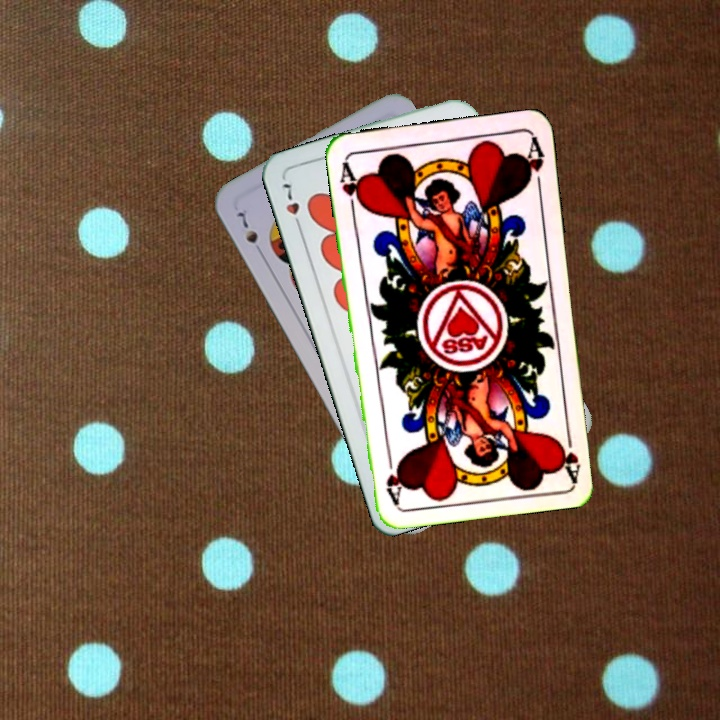H7: (278, 179, 305, 234)
HA: (336, 157, 366, 216), (555, 422, 583, 481)
S7: (234, 207, 267, 259)
